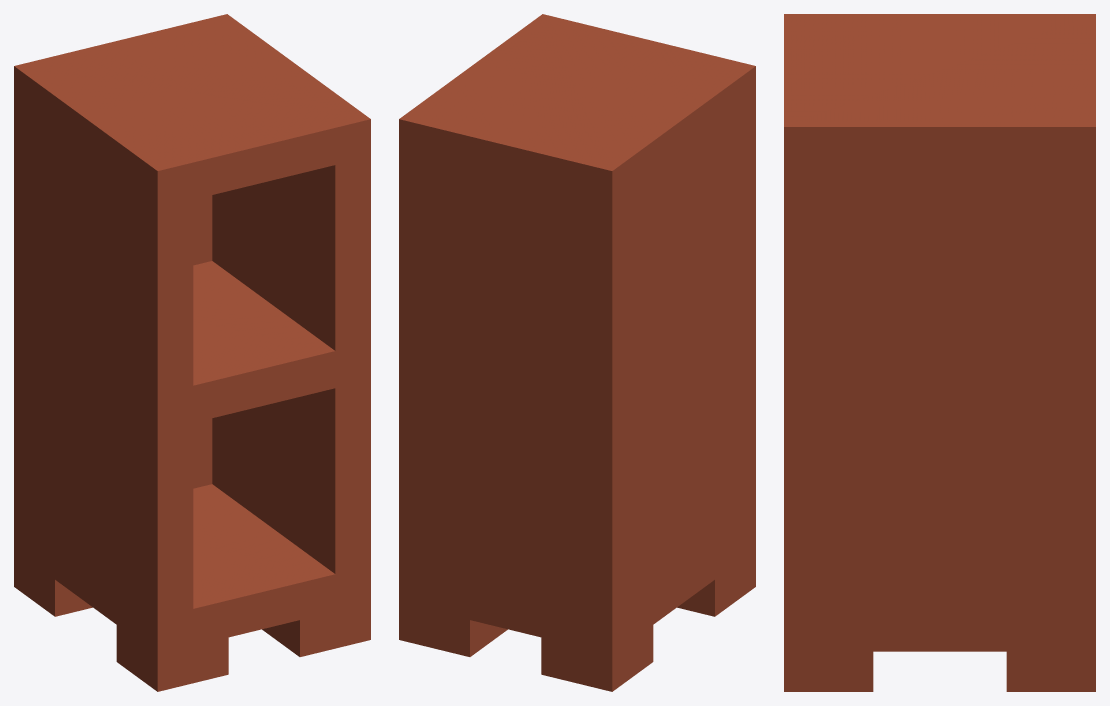
The model's file is small_bookcase_a.obj.
The picture shows the model from 3 angles, left to right: view 1: azimuth 30°, elevation 25°; view 2: azimuth 150°, elevation 25°; view 3: azimuth 270°, elevation 25°; orthographic projection. The views are drawn at different scales.
Bounding box in the file's own units: 0.6 × 1.4 × 0.7.
Materials: 1 (1 with a texture image).
